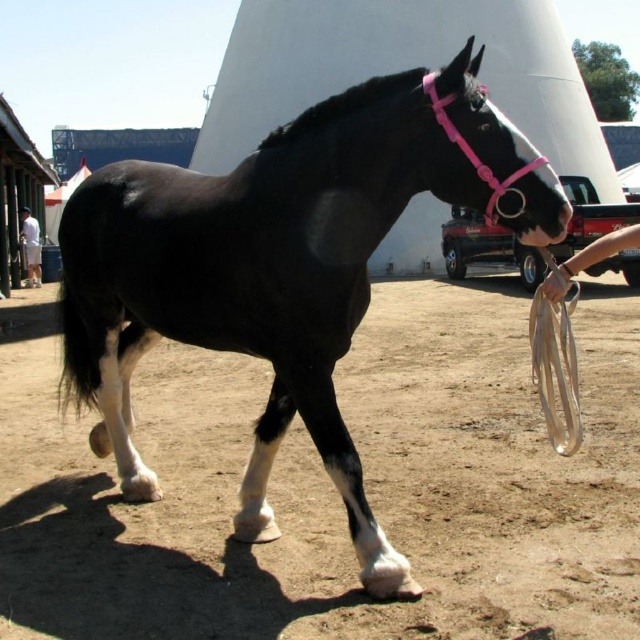Horse: (54, 35, 578, 603)
